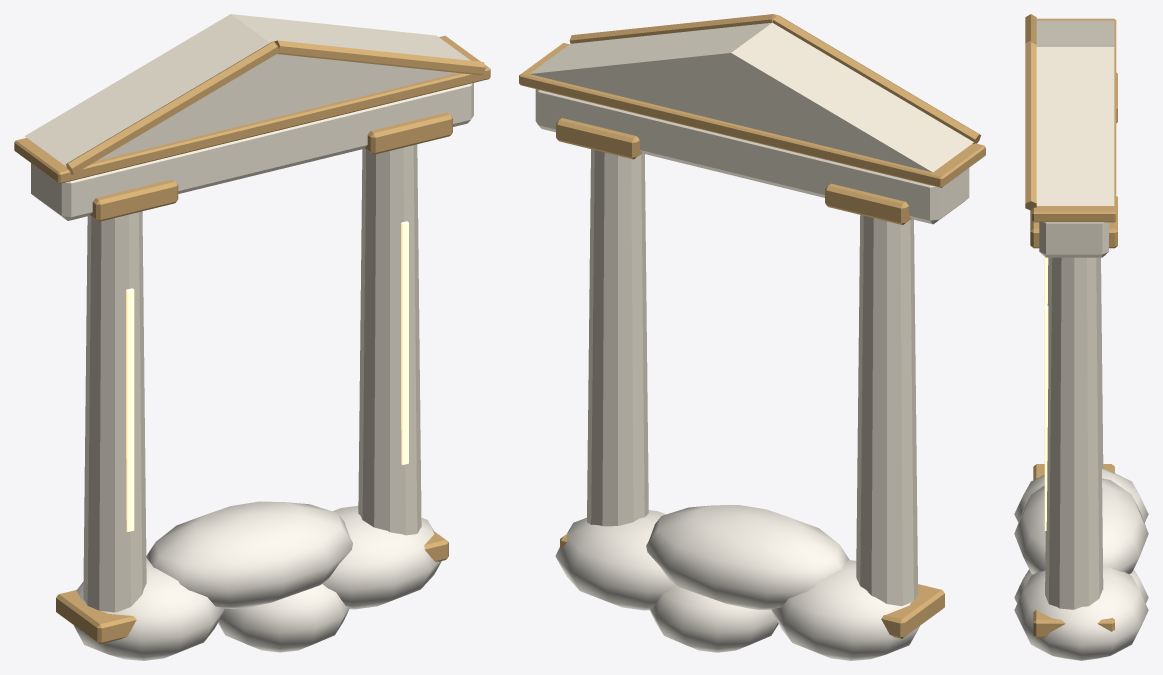
Rendered from div3_near_00_7m.glb.
3 views of the same model, side by side, from view 1: azimuth 30°, elevation 25°; view 2: azimuth 150°, elevation 25°; view 3: azimuth 270°, elevation 25° (orthographic). The views are drawn at different scales.
Parts seen in each view (by area): view 1: div3_near_00_7m__porcelain-ivory, div3_near_00_7m__cloud-cream, div3_near_00_7m__satin-honey-brass, div3_near_00_7m__warm-luminous; view 2: div3_near_00_7m__porcelain-ivory, div3_near_00_7m__cloud-cream, div3_near_00_7m__satin-honey-brass; view 3: div3_near_00_7m__porcelain-ivory, div3_near_00_7m__cloud-cream, div3_near_00_7m__satin-honey-brass, div3_near_00_7m__warm-luminous.
Part boxes in pixels (x1,y1,x2,y2): div3_near_00_7m__porcelain-ivory: (25,14,473,612); div3_near_00_7m__cloud-cream: (73,501,441,660); div3_near_00_7m__satin-honey-brass: (14,35,490,644); div3_near_00_7m__warm-luminous: (126,221,408,531); div3_near_00_7m__porcelain-ivory: (530,22,973,605); div3_near_00_7m__cloud-cream: (555,505,919,660); div3_near_00_7m__satin-honey-brass: (519,14,985,638); div3_near_00_7m__porcelain-ivory: (1036,20,1114,609); div3_near_00_7m__cloud-cream: (1014,469,1148,660); div3_near_00_7m__satin-honey-brass: (1025,14,1117,638); div3_near_00_7m__warm-luminous: (1044,257,1048,530).
Size of the model in its own units: 6.3 by 8.76 by 1.84.
